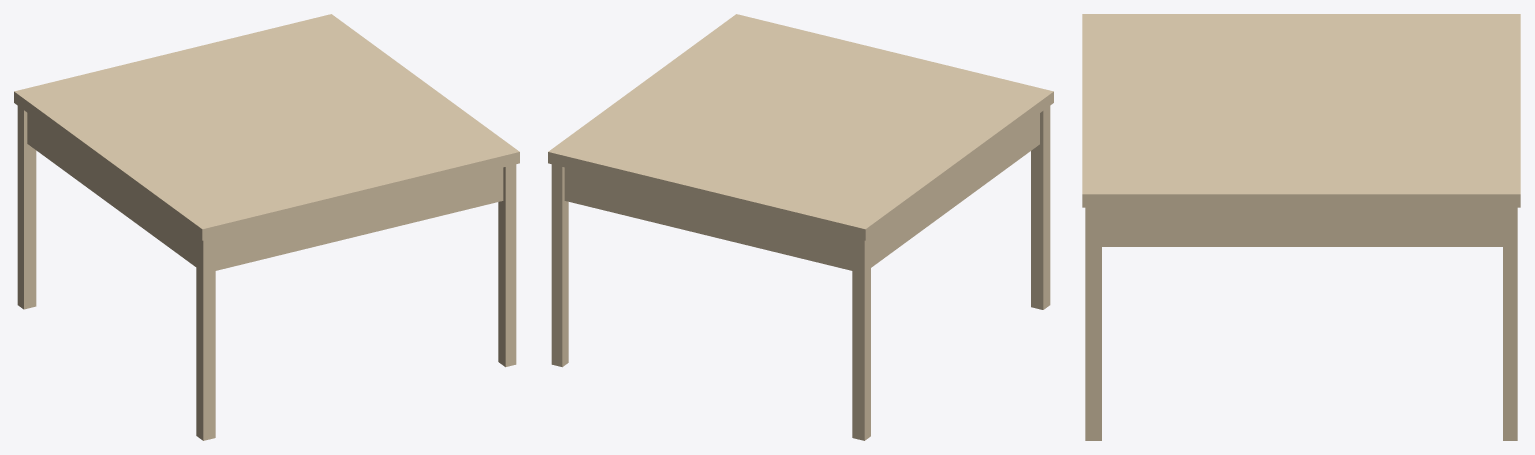
File: Small_Table.fbx
3 views of the same model, side by side, from view 1: azimuth 30°, elevation 25°; view 2: azimuth 150°, elevation 25°; view 3: azimuth 270°, elevation 25° (orthographic). The views are drawn at different scales.
Parts seen in each view (by area): view 1: Small_Table; view 2: Small_Table; view 3: Small_Table.
Part boxes in pixels (x1,y1,x2,y2): Small_Table: [14, 14, 519, 440]; Small_Table: [548, 14, 1053, 440]; Small_Table: [1082, 14, 1520, 440].
Bounding box in the file's own units: 72.5 × 46.5 × 74.5.
